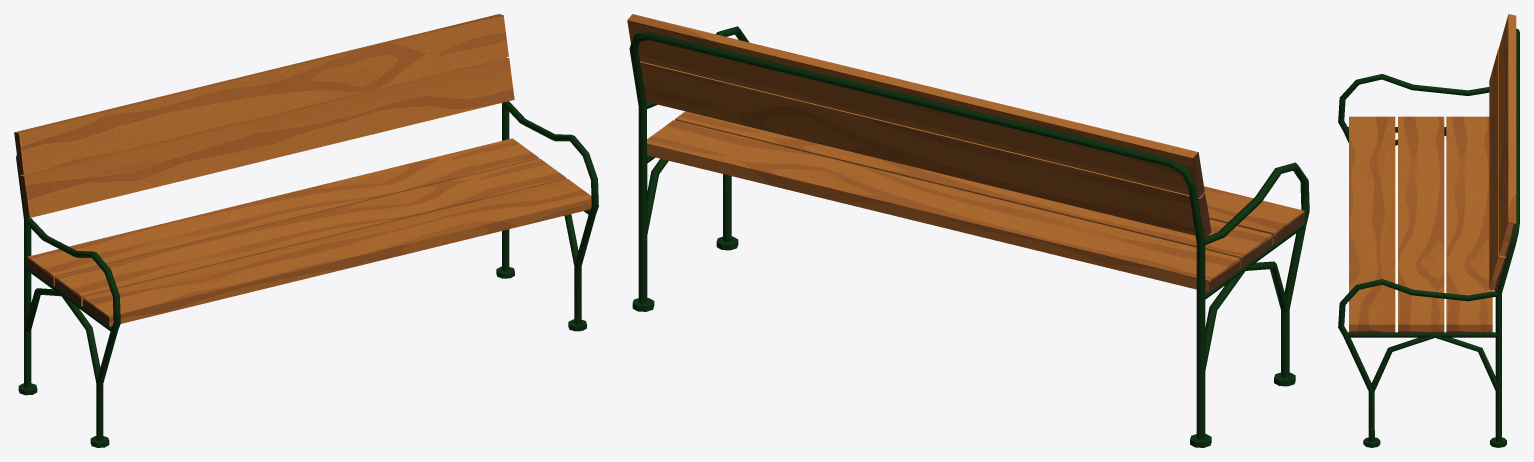
Rendered from Bench.fbx.
3 views of the same model, side by side, from view 1: azimuth 30°, elevation 25°; view 2: azimuth 150°, elevation 25°; view 3: azimuth 270°, elevation 25° (orthographic). The views are drawn at different scales.
Parts seen in each view (by area): view 1: Circle.002; view 2: Circle.002; view 3: Circle.002.
Boxes of the visible parts, x1=… form: Circle.002: x1=14, y1=14, x2=598, y2=447; Circle.002: x1=627, y1=14, x2=1309, y2=447; Circle.002: x1=1338, y1=14, x2=1519, y2=447.
Size of the model in its own units: 203 by 99.81 by 73.47.
Materials: 2 (1 with a texture image).
